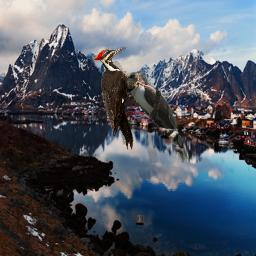Cuckoo: (123, 72, 192, 163)
Woodpecker: (92, 47, 147, 150)
